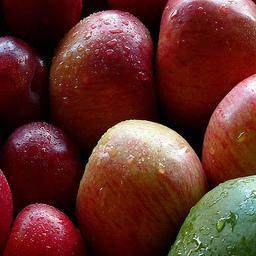apple: (75, 120, 209, 253), (48, 9, 157, 152), (157, 1, 256, 130), (1, 121, 83, 211), (200, 73, 255, 188), (1, 35, 46, 139), (1, 1, 83, 54), (4, 202, 87, 254)
